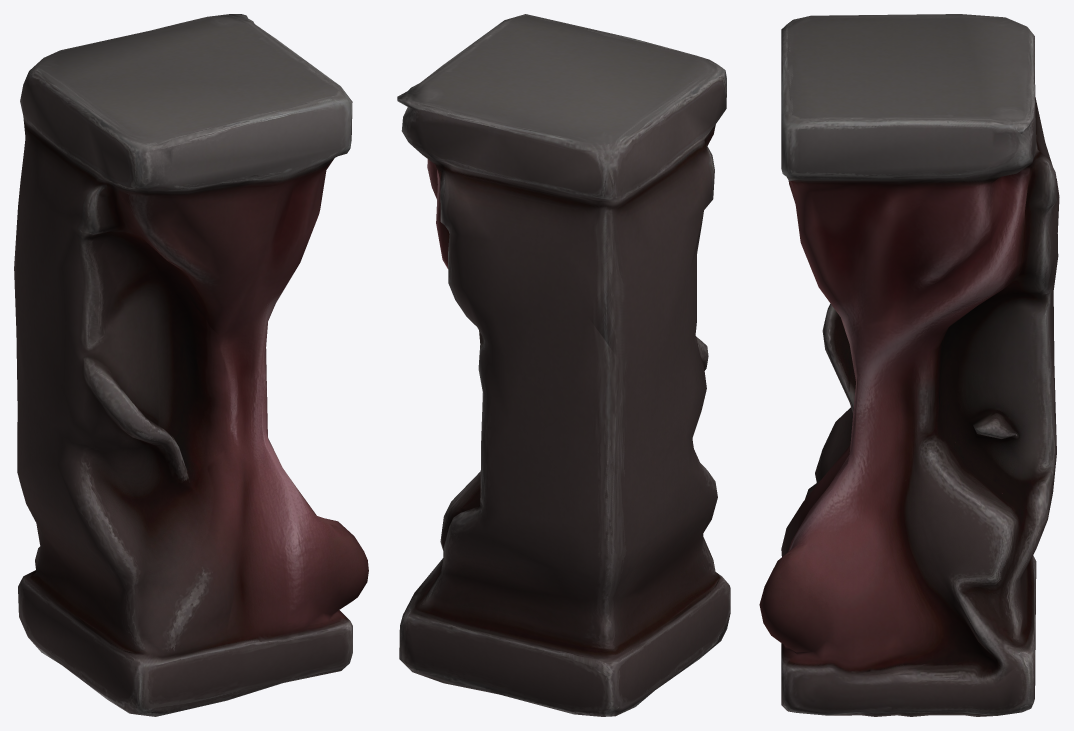
File: tripo_convert_517d6631-87b0-4cbf-b95d-ef32895112df.fbx
3 renders of one model, left to right at view 1: azimuth 30°, elevation 25°; view 2: azimuth 150°, elevation 25°; view 3: azimuth 270°, elevation 25°, orthographic. The views are drawn at different scales.
Visible parts, largest first — view 1: tripo_node_517d6631; view 2: tripo_node_517d6631; view 3: tripo_node_517d6631.
Part boxes in pixels (left/top/right/bottom): tripo_node_517d6631: left=14, top=14, right=368, bottom=716; tripo_node_517d6631: left=397, top=14, right=730, bottom=716; tripo_node_517d6631: left=759, top=14, right=1059, bottom=716.
Size of the model in its own units: 0.4512 by 0.998 by 0.4551.
Materials: 1 (1 with a texture image).
